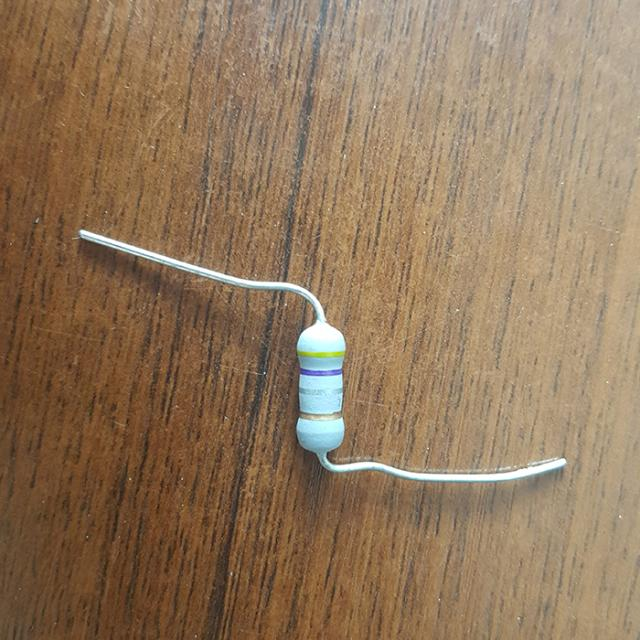Resistor Carbon-Film: (295, 316, 346, 449)
